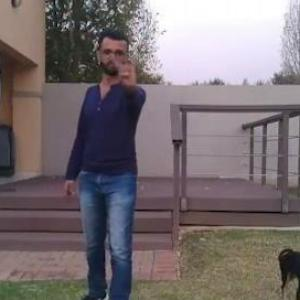takeoff-hand: (116, 44, 148, 89)
